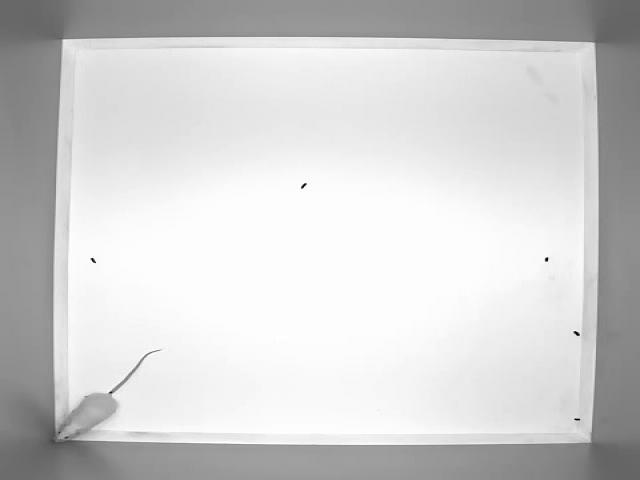Tikus: (53, 347, 164, 443)
